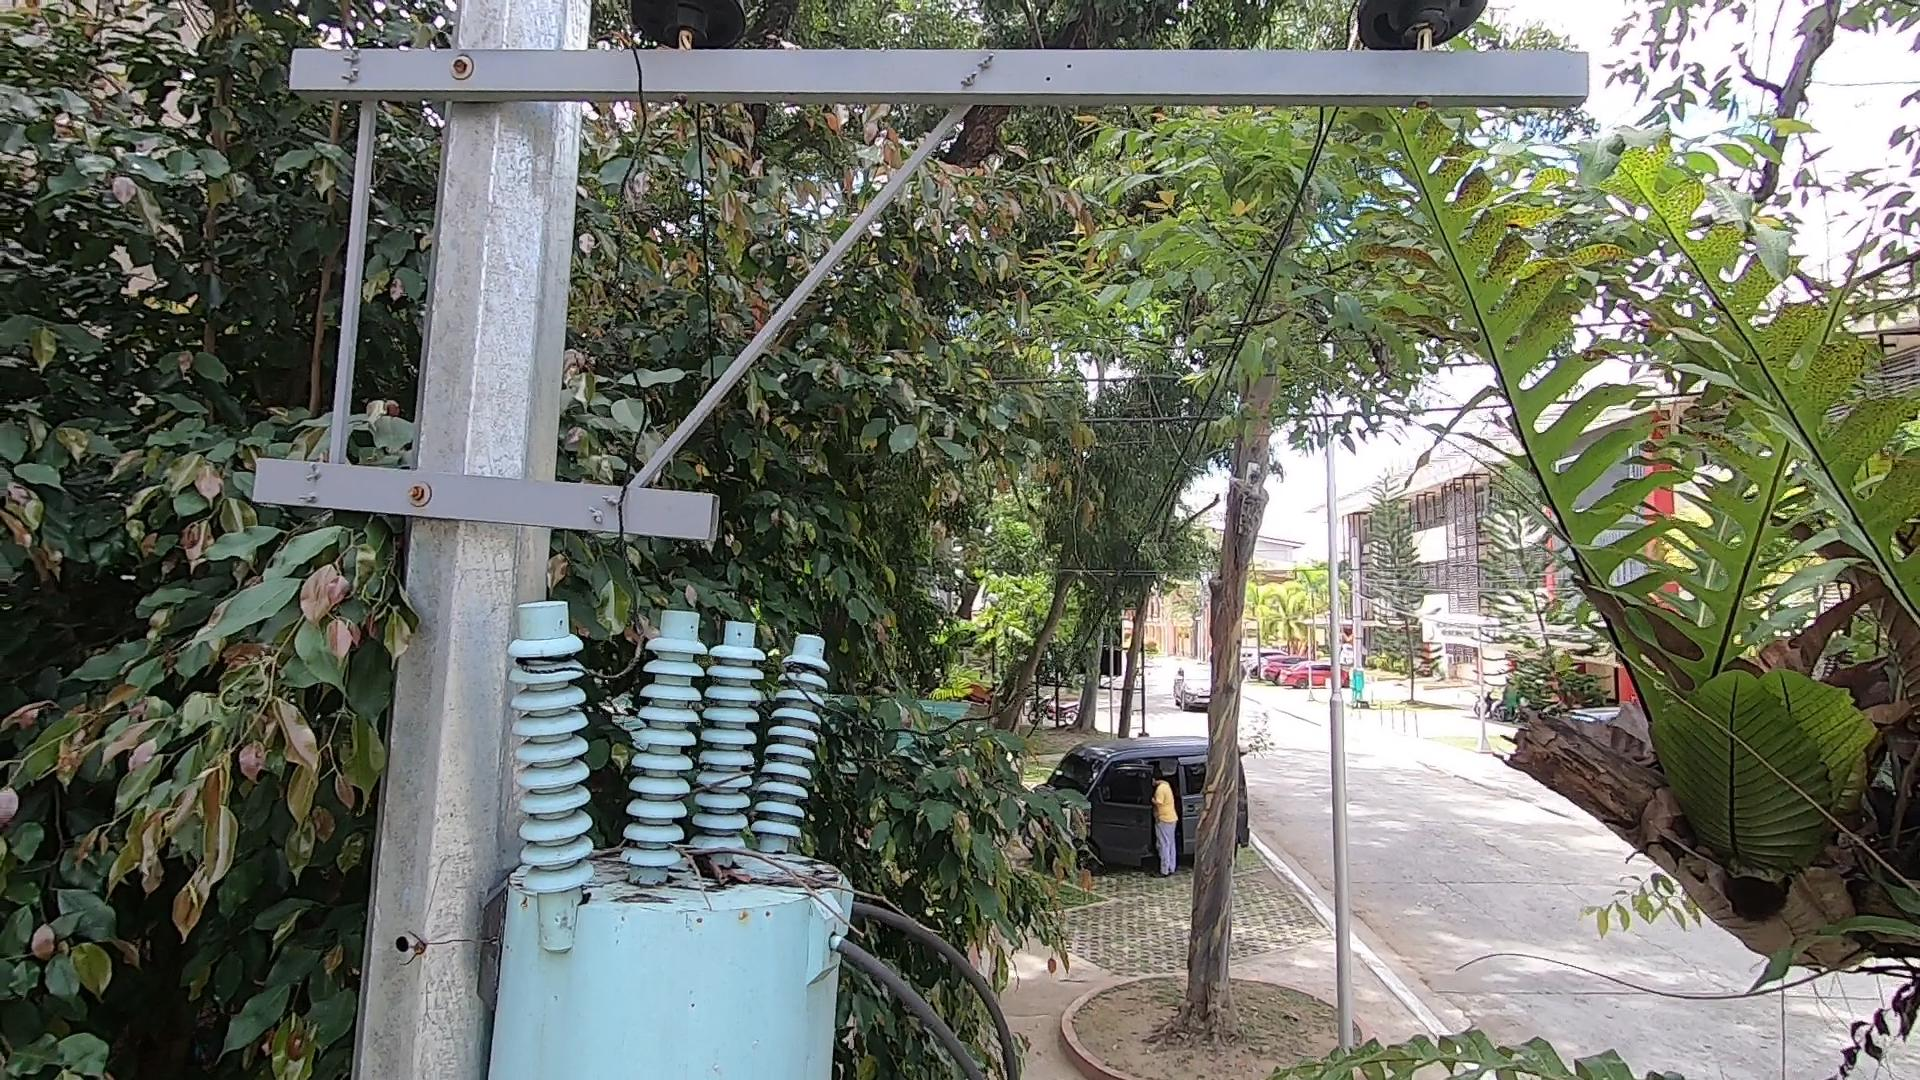leaf: (680, 839, 752, 891)
tree branch: (589, 829, 945, 952)
